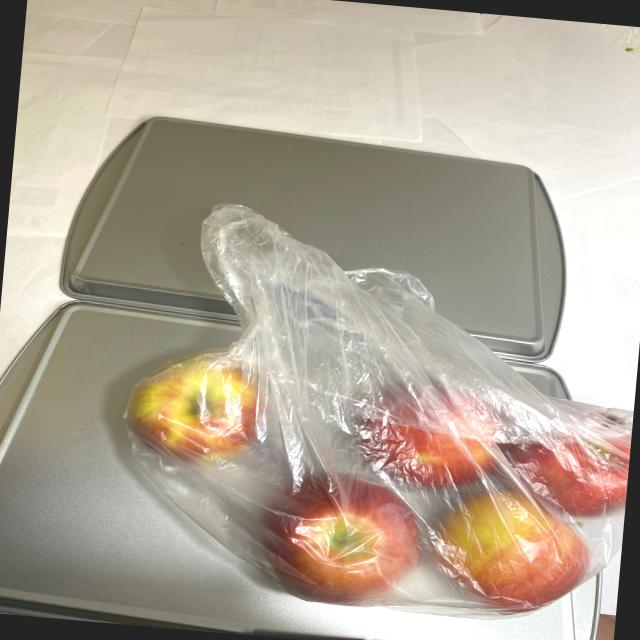apple: (103, 299, 639, 632)
